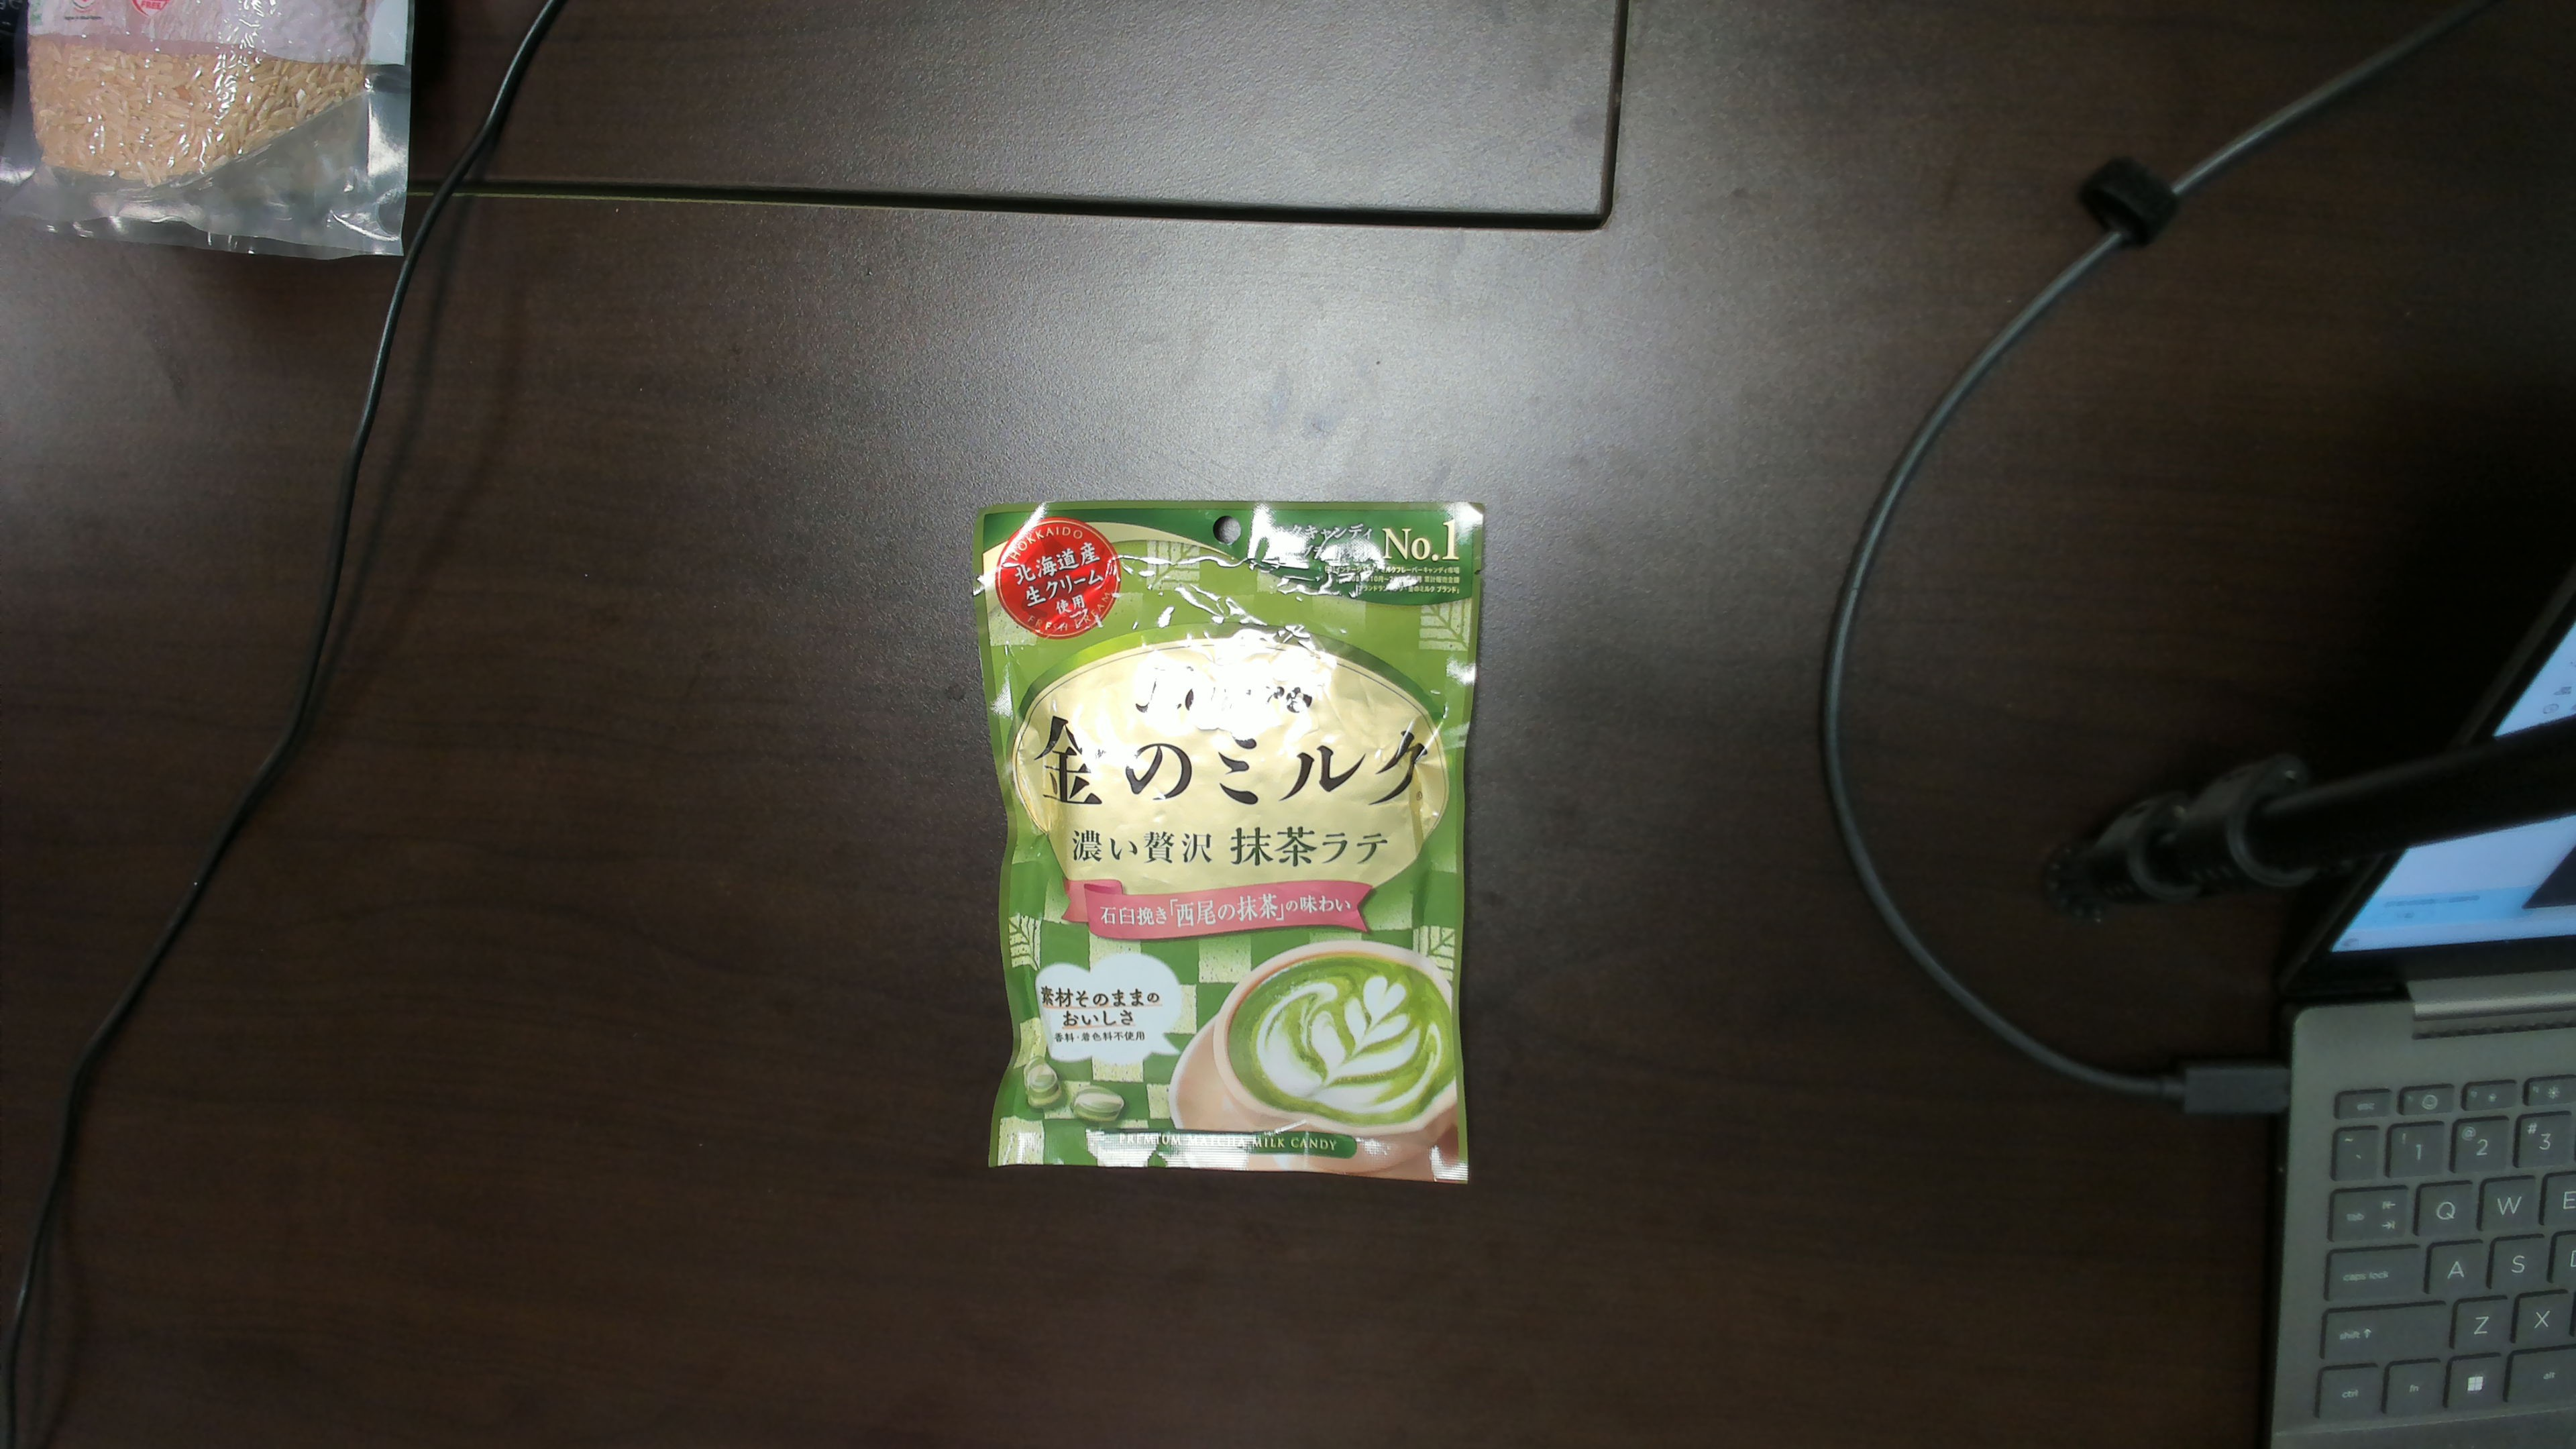SweetsChocolatesOthers_100-199g_NonHalal_NonHealthy: (987, 520, 1454, 1171)
